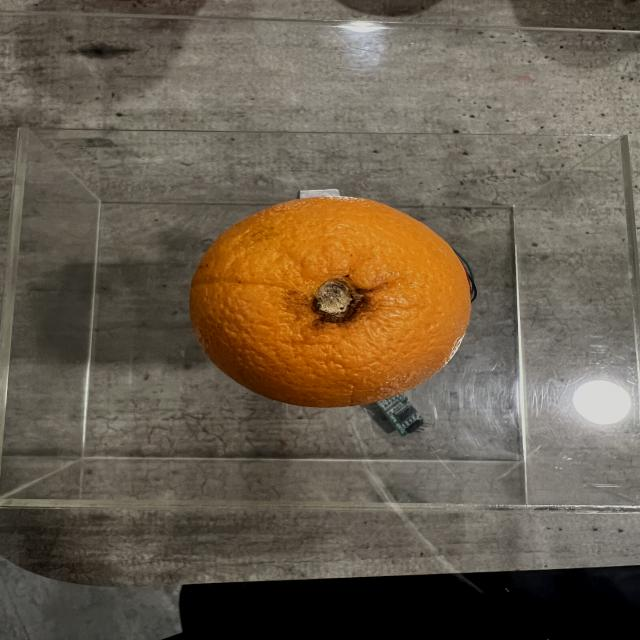orange: (187, 196, 469, 410)
